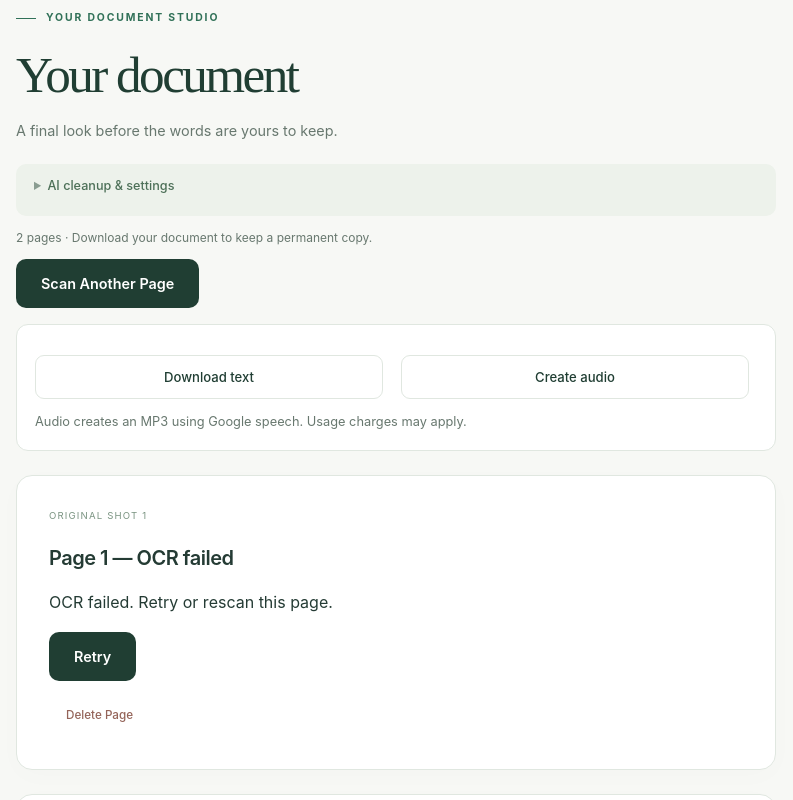
Test: marks OCR failures, retries in place, and leaves other pages editable
Click the button "Retry". click: {"x": 93, "y": 656}
box: [49,632,136,681]
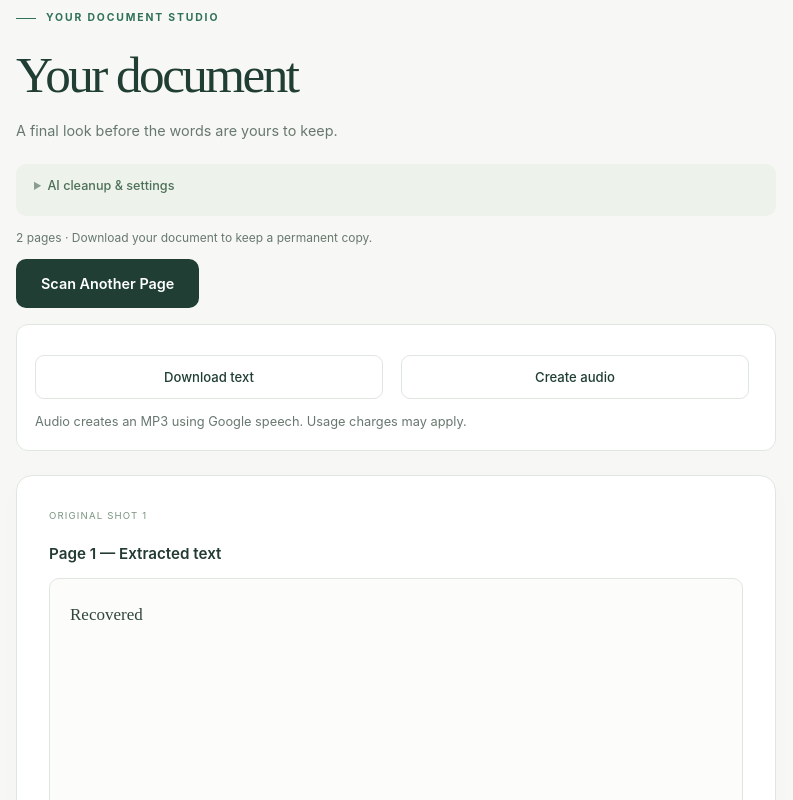
Check: the number of text boxes is 2
